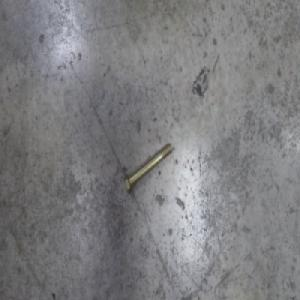Bolt: (123, 139, 173, 196)
